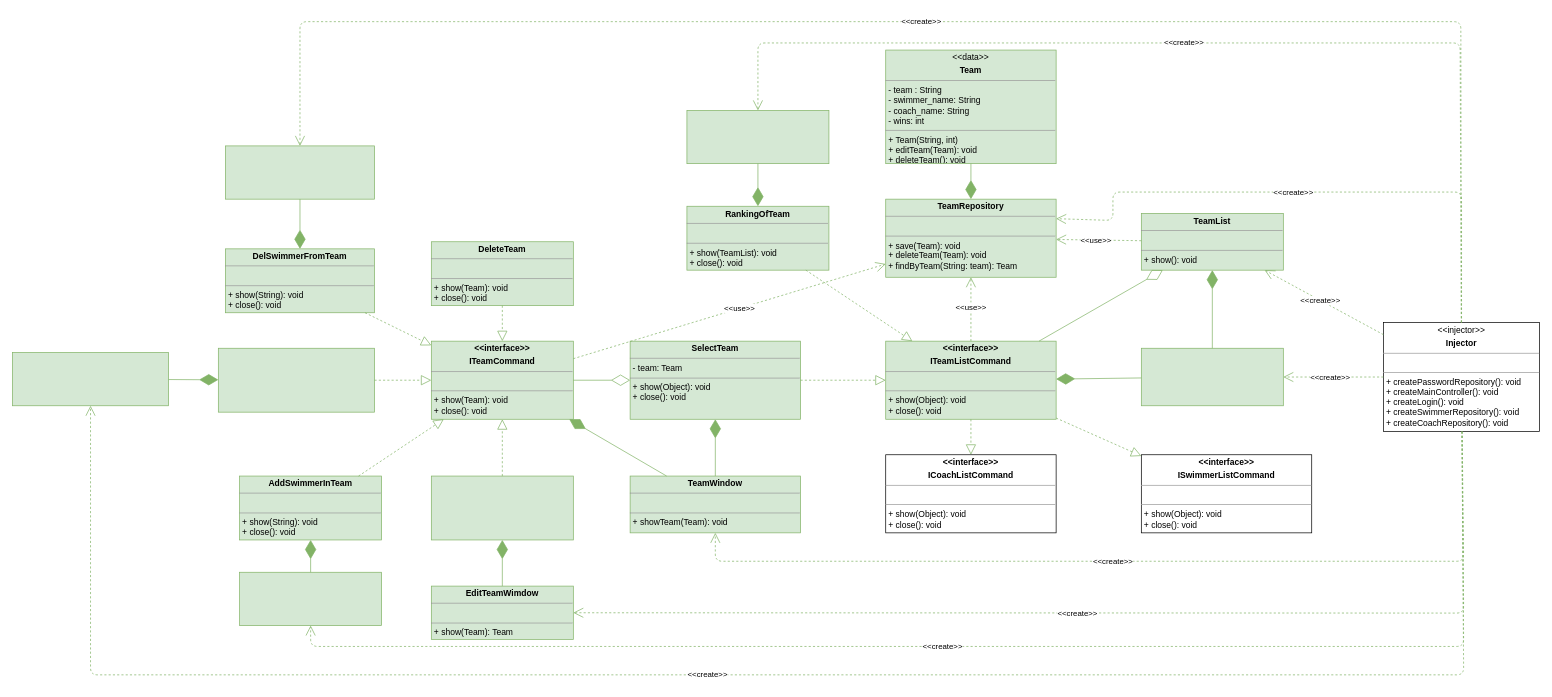
Some shapes in this 1552 by 697 pixel diagram are drawn without their labels. Each missing label, with the centre of its shape:
"AddSwimmerInTeamWimdow + show(String): Team" belongs at [310,599].
"DelSwimmerFromTeamWimdow + show(String): Team" belongs at [300,172].
"EditTeam + show(Team): void + close(): void" belongs at [502,507].
"RankingOfTeam Window + show(TeamList): TeamList" belongs at [757,137].
"ShowTeamStats + show(Team, String, String): void + close(): void" belongs at [296,380].
"ShowTeamStatsWimdow + show(Team, String, String): Team" belongs at [90,379].
"TeamListWindow + show(TeamList): void" belongs at [1212,377].
